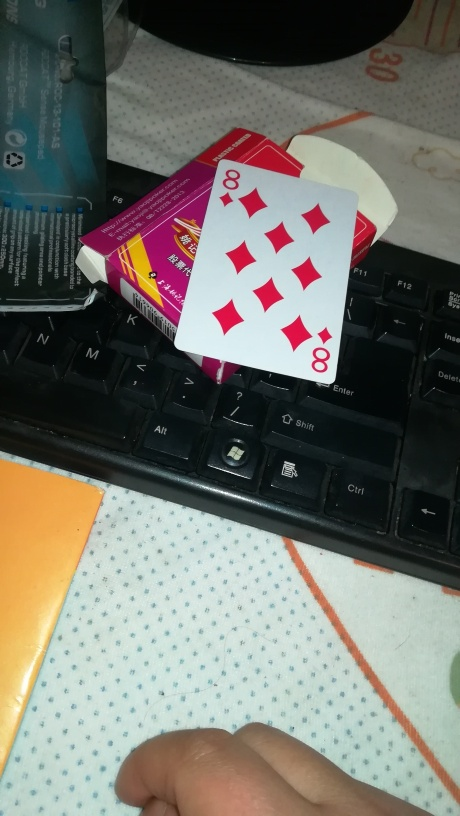fk 8: (174, 153, 357, 383)
